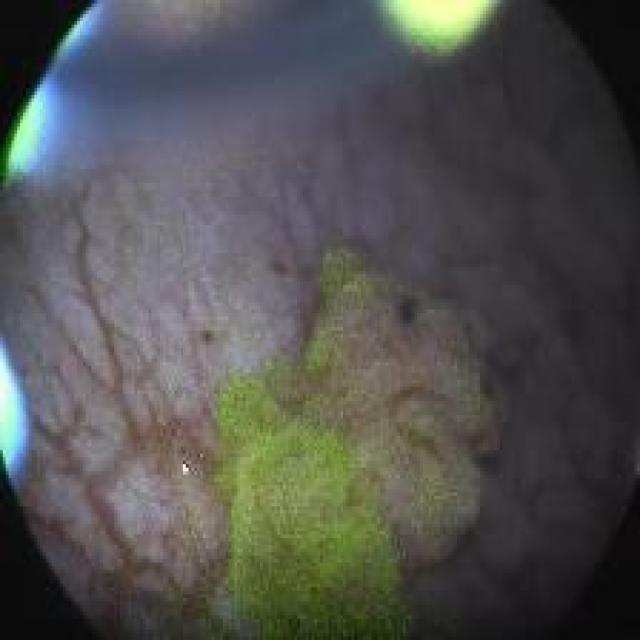blur: (24, 7, 408, 158)
color misalignment: (24, 4, 407, 155), (387, 3, 489, 47), (6, 88, 54, 172), (53, 9, 107, 46), (180, 463, 190, 476), (176, 448, 186, 458)
saturation: (2, 350, 30, 471)
